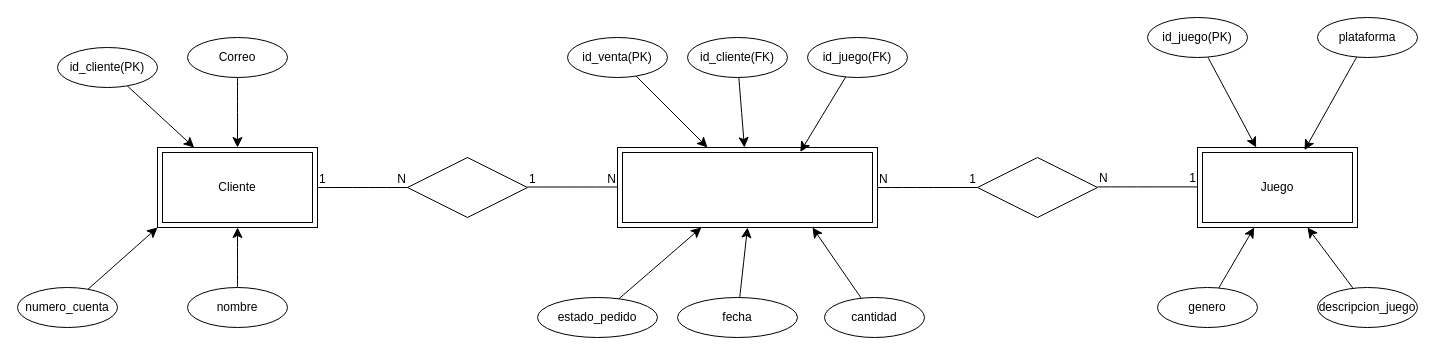
This 1435x355 diagram has some shape labels left out. The centre of each missing label's shape, as x and y in pixels:
"Compra" goes at [467,187].
"Contiene" goes at [1037,187].
"Venta" goes at [747,187].
